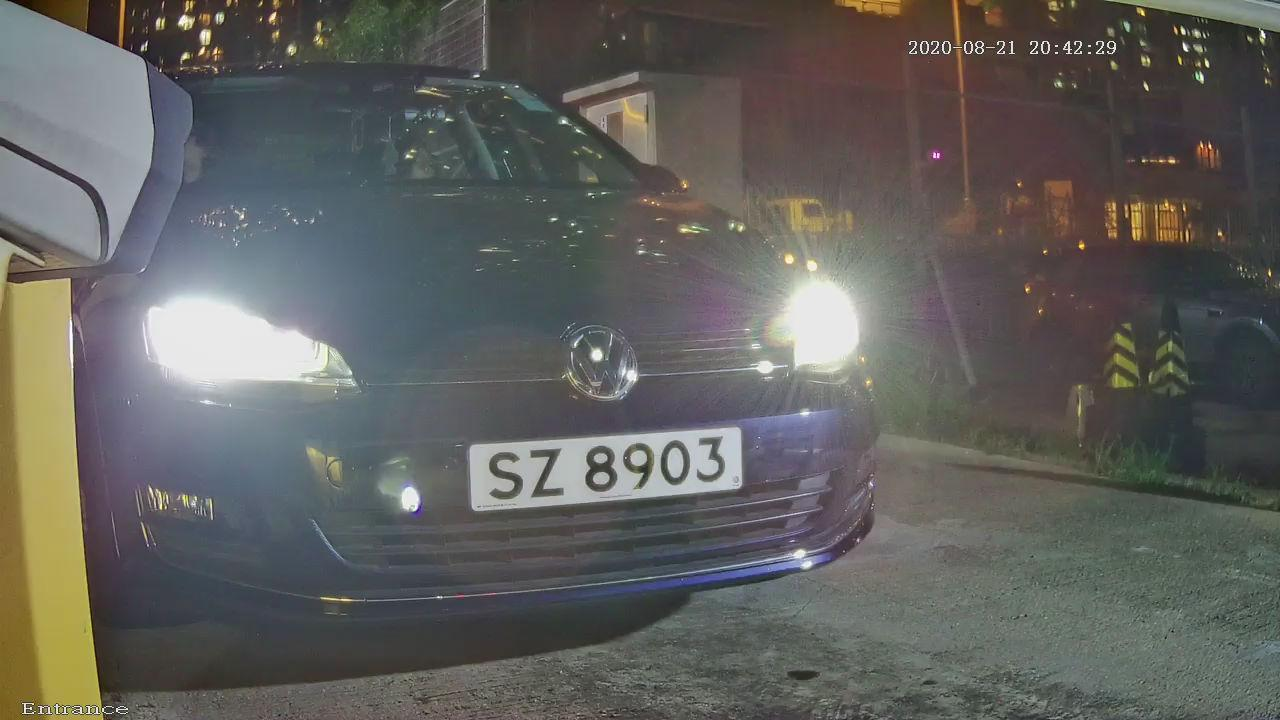Car: (6, 7, 961, 672)
License Plate: (428, 397, 771, 524)
